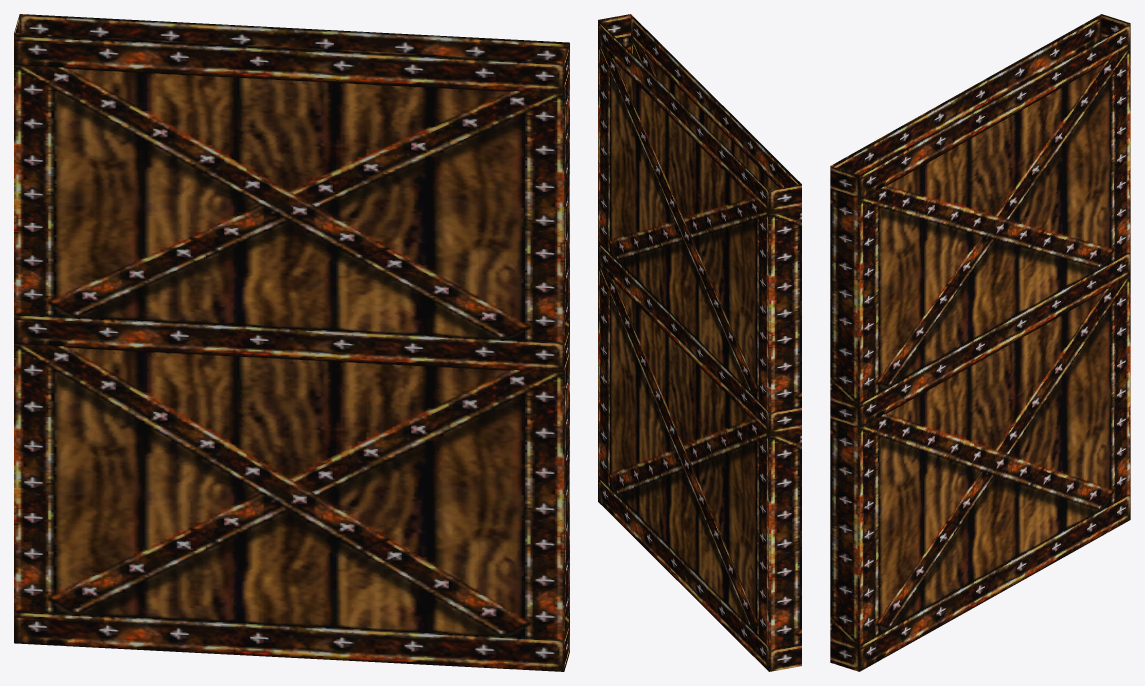
Rendered from CINE11_GANDALFANDBILBOREUNITED_SHOT03_GATEC.fbx.
3 renders of one model, left to right at view 1: azimuth 30°, elevation 25°; view 2: azimuth 150°, elevation 25°; view 3: azimuth 270°, elevation 25°, orthographic. The views are drawn at different scales.
Parts seen in each view (by area): view 1: CINE11_GANDALFANDBILBOREUNITED_SHOT03_GATEC; view 2: CINE11_GANDALFANDBILBOREUNITED_SHOT03_GATEC; view 3: CINE11_GANDALFANDBILBOREUNITED_SHOT03_GATEC.
Boxes of the visible parts, x1,y1,x2,y2 form: CINE11_GANDALFANDBILBOREUNITED_SHOT03_GATEC: (14, 14, 569, 671); CINE11_GANDALFANDBILBOREUNITED_SHOT03_GATEC: (598, 14, 801, 671); CINE11_GANDALFANDBILBOREUNITED_SHOT03_GATEC: (830, 14, 1130, 671).
Size of the model in its own units: 21393 by 30670 by 16831.
Materials: 1 (1 with a texture image).
